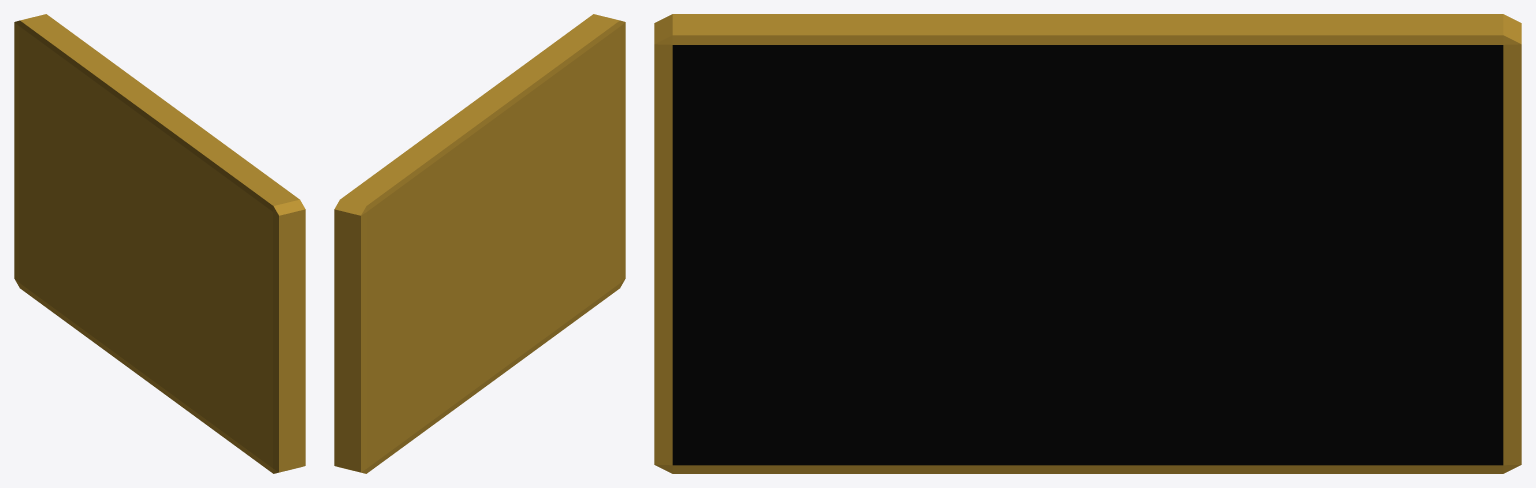
The model's file is blackboard.fbx.
3 renders of one model, left to right at view 1: azimuth 30°, elevation 25°; view 2: azimuth 150°, elevation 25°; view 3: azimuth 270°, elevation 25°, orthographic. The views are drawn at different scales.
Visible parts, largest first — view 1: Cube; view 2: Cube; view 3: Cube.
Boxes of the visible parts, box(x1,y1,x2,y2) form: Cube: box(14, 14, 305, 473); Cube: box(334, 14, 625, 473); Cube: box(654, 14, 1521, 473).
Size of the model in its own units: 51.84 by 480 by 859.
